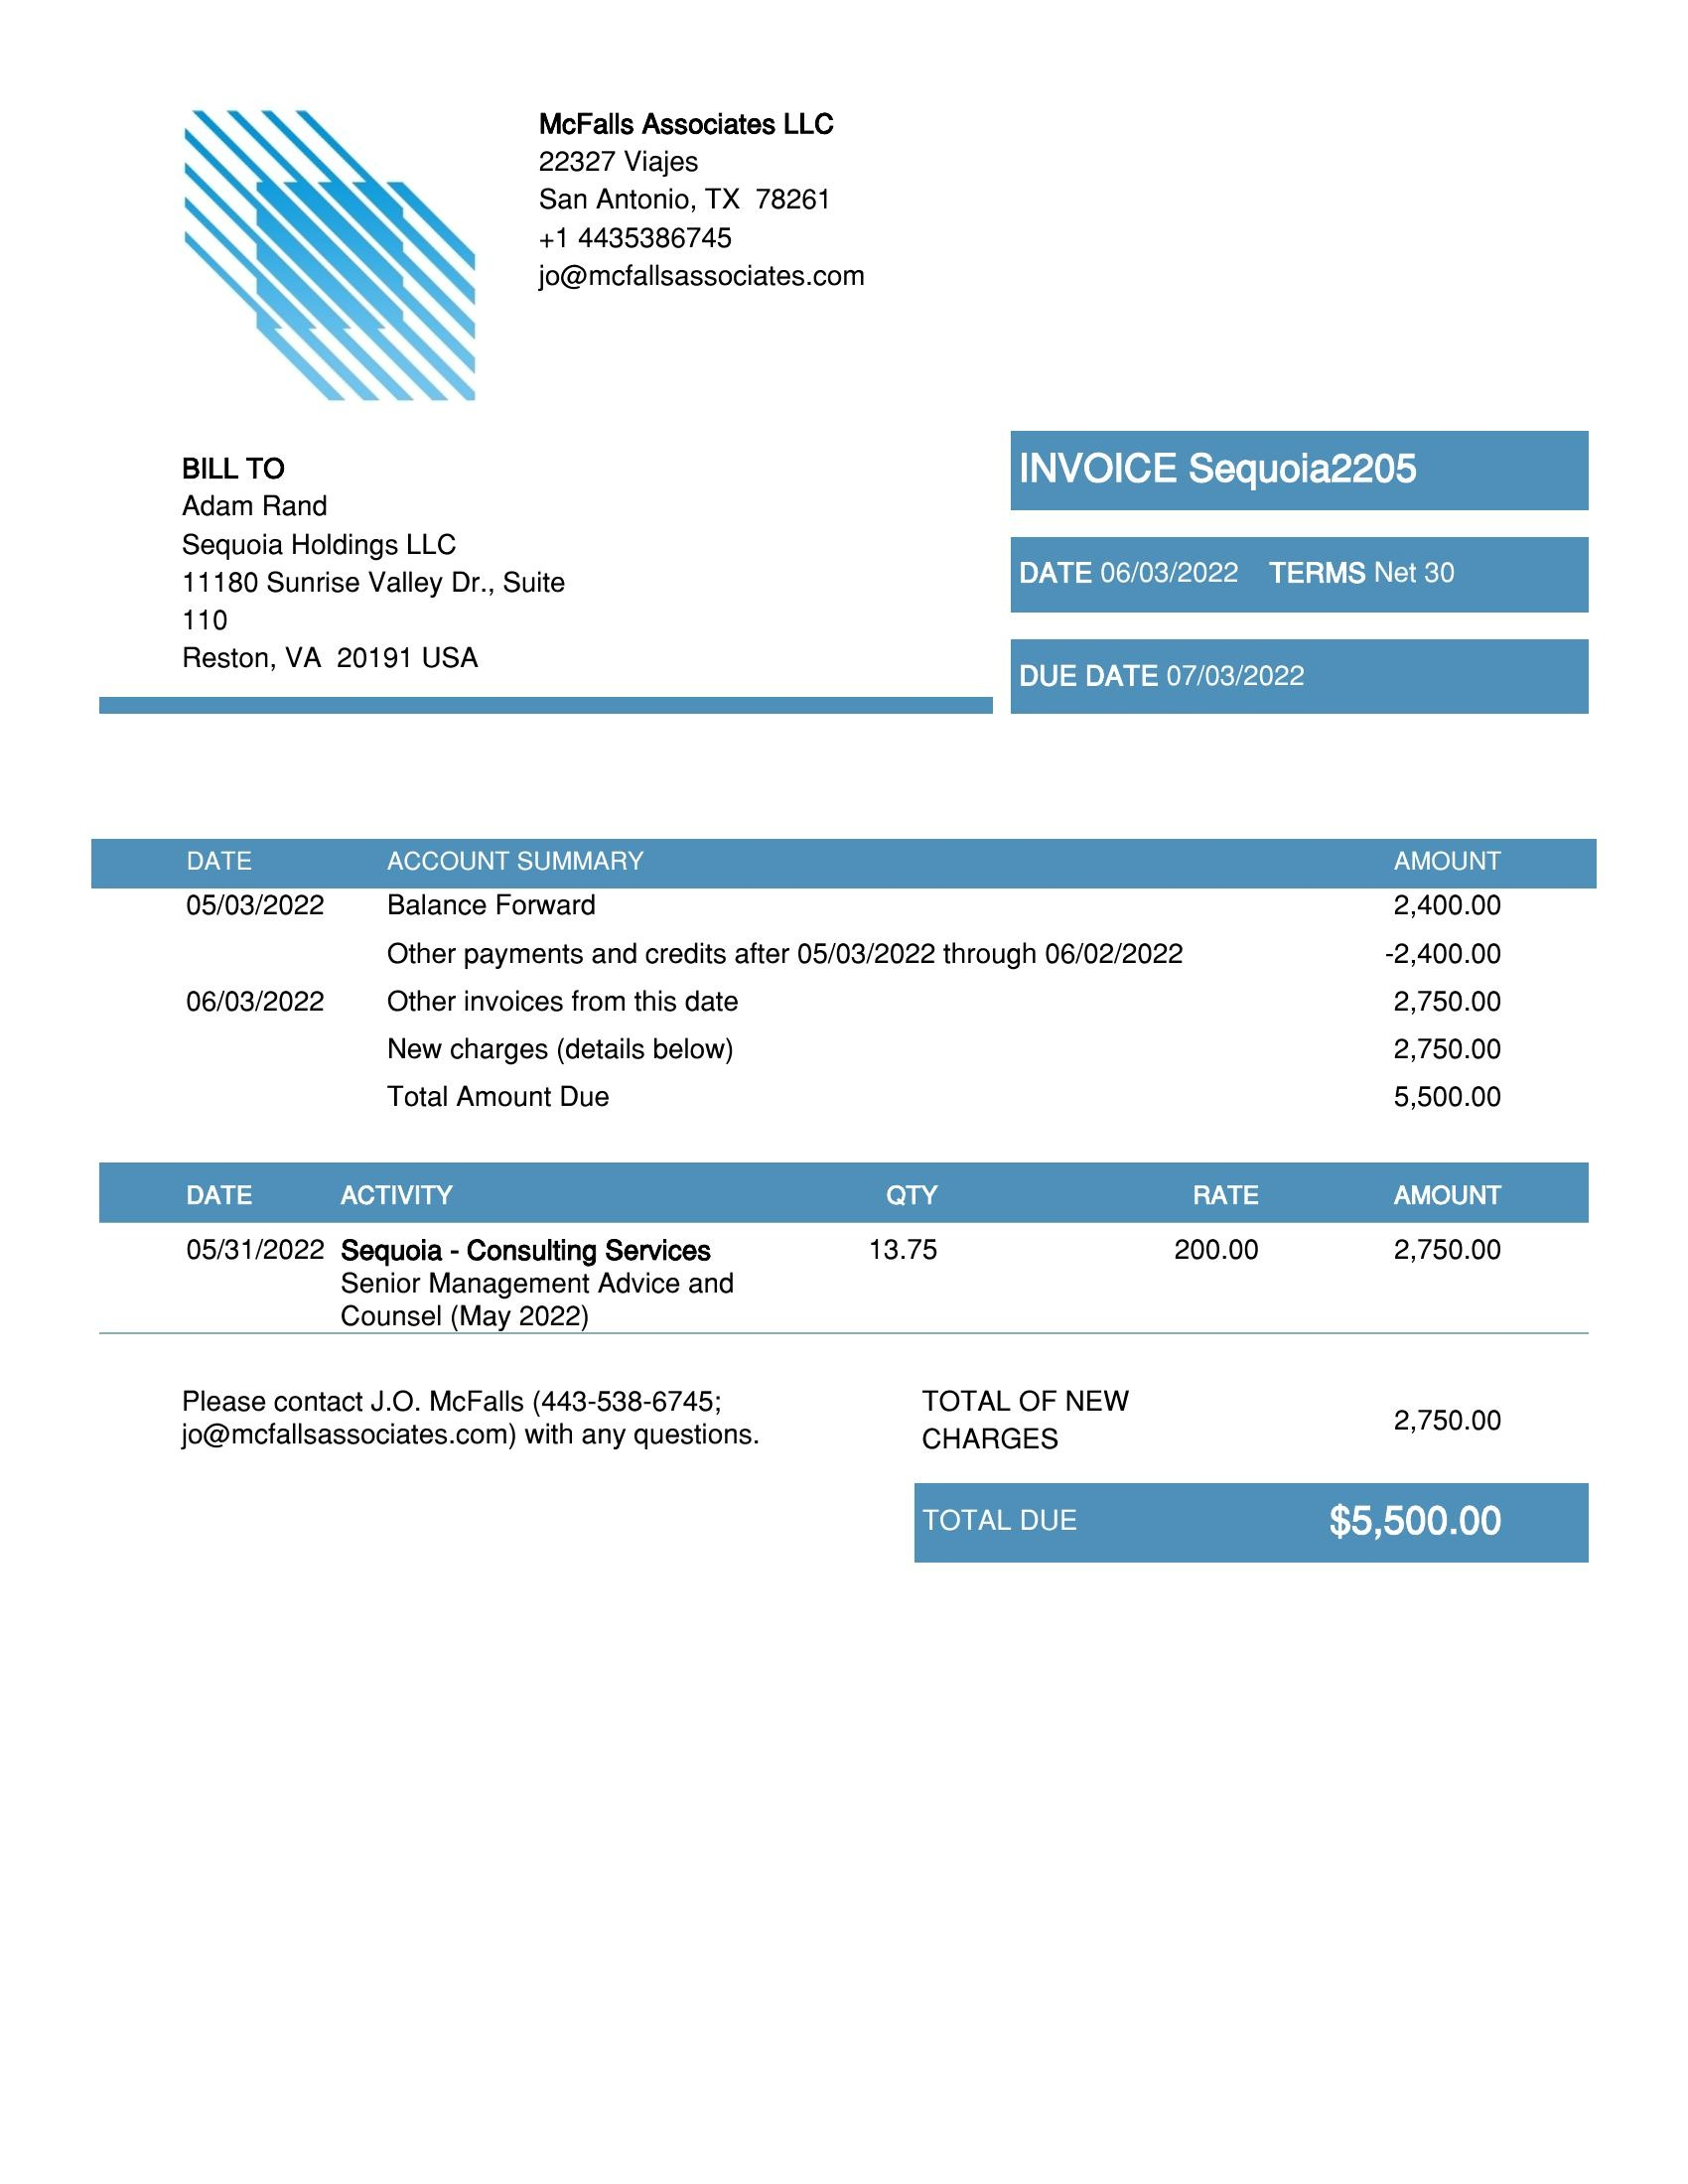table: (119, 831, 1571, 1124), (106, 1149, 1585, 1337)
